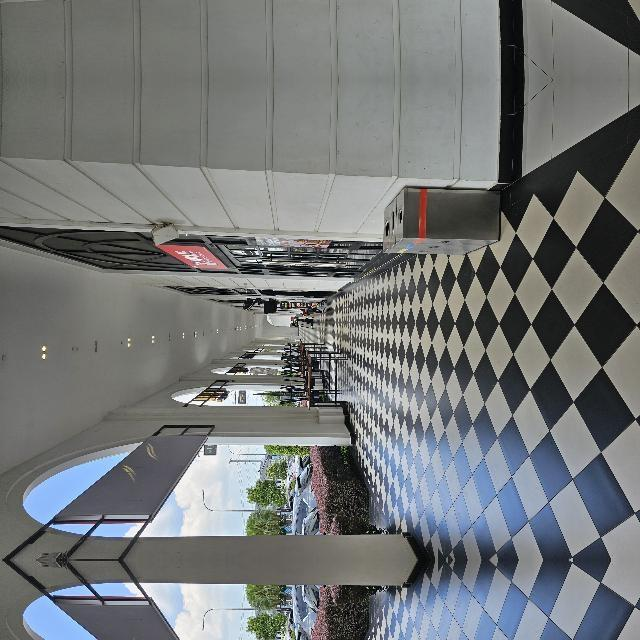door: (284, 295, 322, 465)
obstacle: (302, 460, 374, 582), (302, 538, 374, 640), (150, 357, 222, 429)
